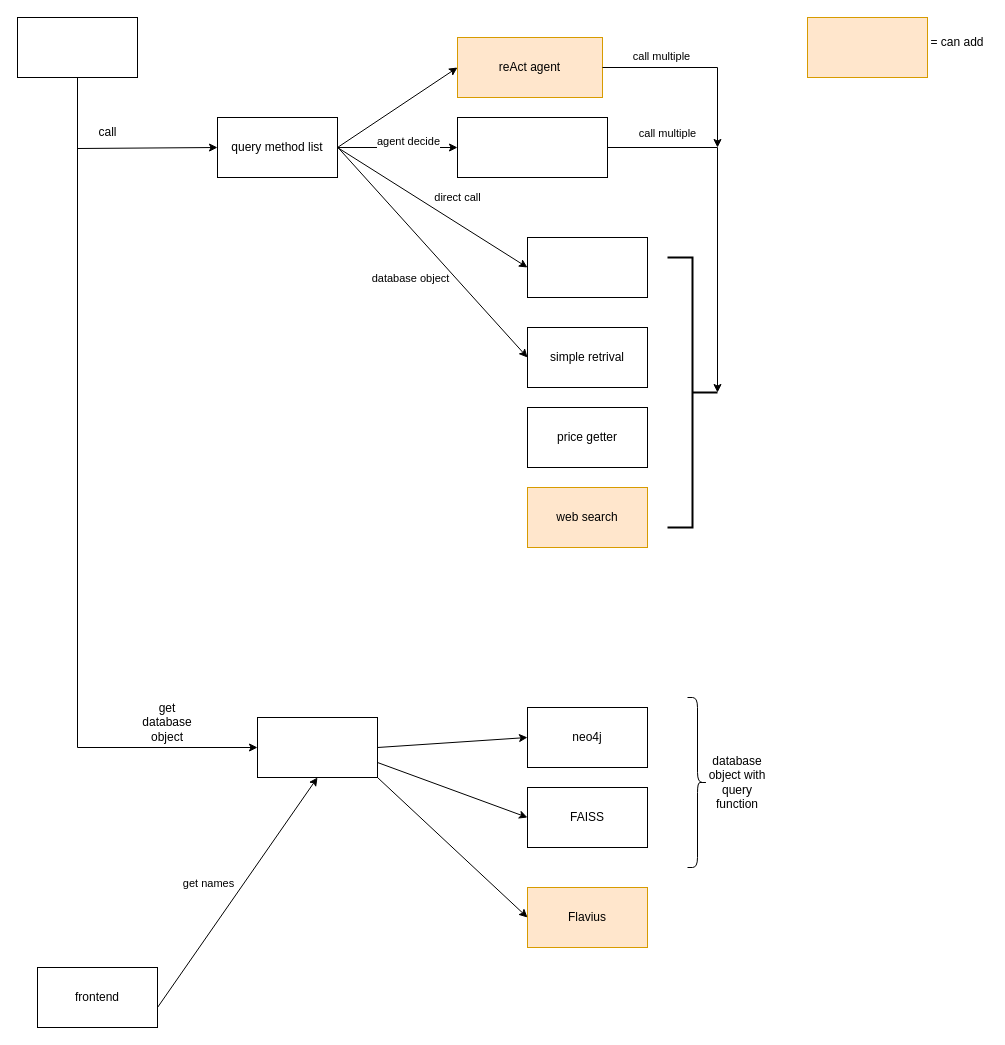
Image size: 1005x1045. Some labels were removed from this diagram. Each missing label, with the box of its shape:
enhanced (agent decide what to use and ask): (456, 116, 608, 178)
graph/vector database: (256, 716, 378, 778)
simple query: (526, 236, 648, 298)
web request handler: (16, 16, 138, 78)
